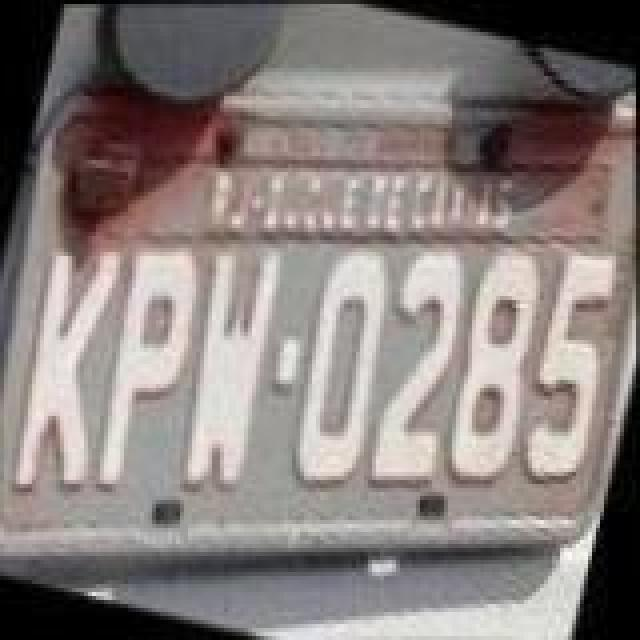2: (352, 238, 492, 506)
5: (510, 240, 638, 496)
8: (426, 234, 562, 498)
K: (0, 228, 144, 512)
O: (270, 238, 414, 502)
P: (72, 234, 212, 510)
W: (158, 236, 302, 508)
